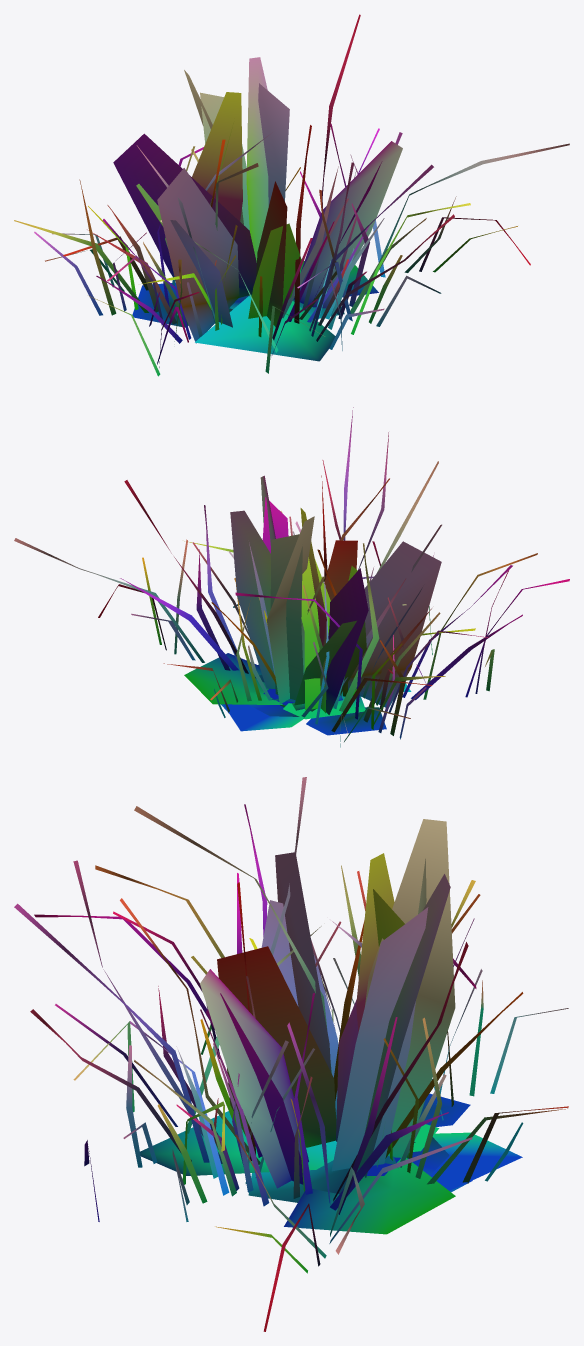
Rendered from uddmcgbia_VarD_LOD1.fbx.
3 renders of one model, top to bottom at view 1: azimuth 30°, elevation 25°; view 2: azimuth 150°, elevation 25°; view 3: azimuth 270°, elevation 25°, orthographic. The views are drawn at different scales.
Visible parts, largest first — view 1: _a7bb_VarD_LOD2; view 2: _a7bb_VarD_LOD2; view 3: _a7bb_VarD_LOD2.
Boxes of the visible parts, <box> form: _a7bb_VarD_LOD2: <box>14,14,569,376</box>; _a7bb_VarD_LOD2: <box>14,407,569,747</box>; _a7bb_VarD_LOD2: <box>14,777,568,1331</box>.
Bounding box in the file's own units: 16.29 × 7.13 × 10.78.
